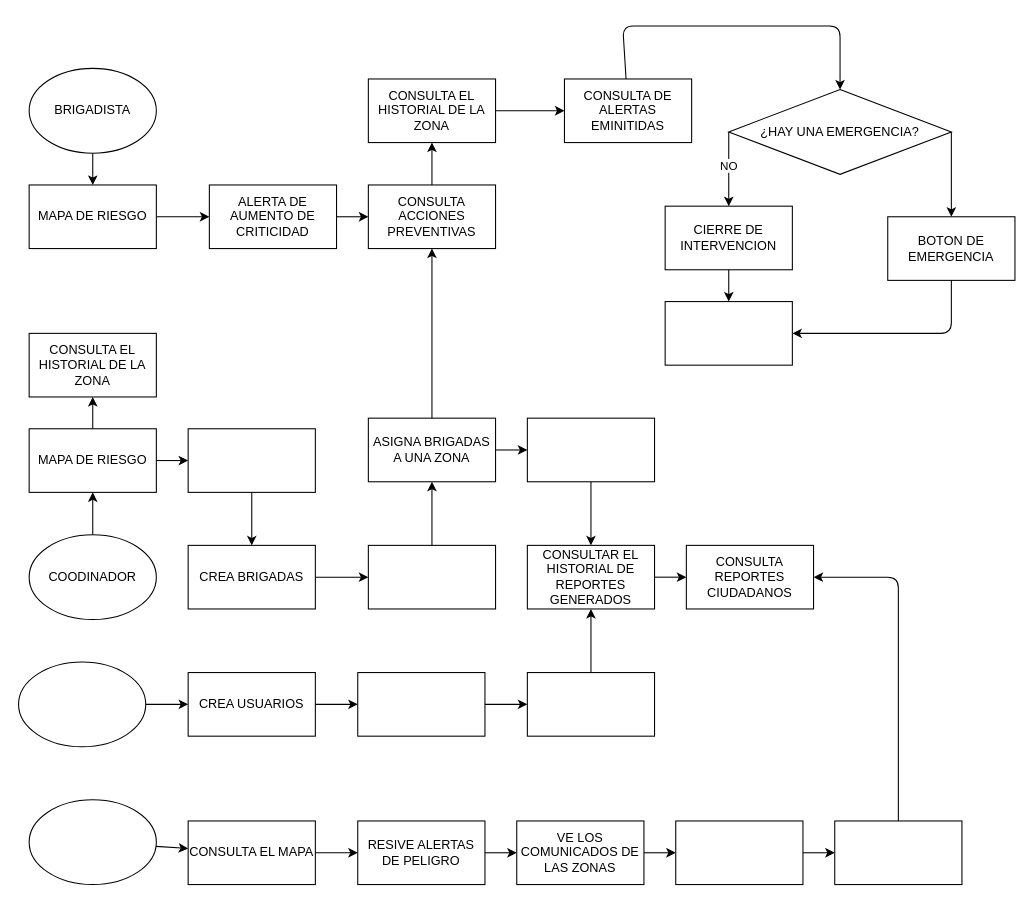
Image size: 1034x903. Some labels were removed from this diagram. Each missing label, with the box of its shape:
ADMINISTRADOR: (17, 661, 146, 747)
APRENDE EN LA SECCION DE CONSINTIZACION: (675, 820, 803, 885)
ASIGNA BRIGADISTA A UNA BRIGADA: (367, 544, 496, 609)
COMUNIDAD: (28, 799, 156, 885)
CONFIGURAR UMBRALES DE ALERTA: (526, 417, 655, 482)
CREA ZONAS: (357, 672, 485, 736)
GENERA REPORTES TECNICOS: (526, 672, 655, 736)
NOTIFICA AL COORDINADOR: (664, 301, 792, 365)
REALIZA UN REPORTE CIUDADANO: (834, 820, 962, 885)
VISUALIZA SERIES DE TIEMPO: (187, 428, 315, 492)
